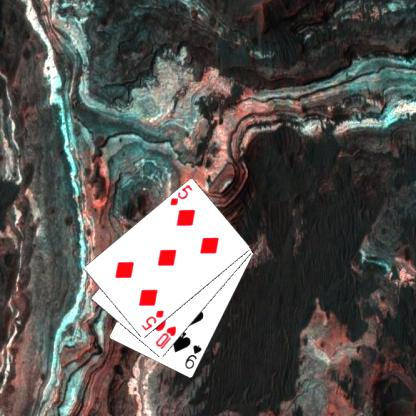10H: (153, 324, 177, 351)
5D: (168, 182, 194, 207), (139, 308, 165, 332)
9S: (182, 342, 203, 370)
